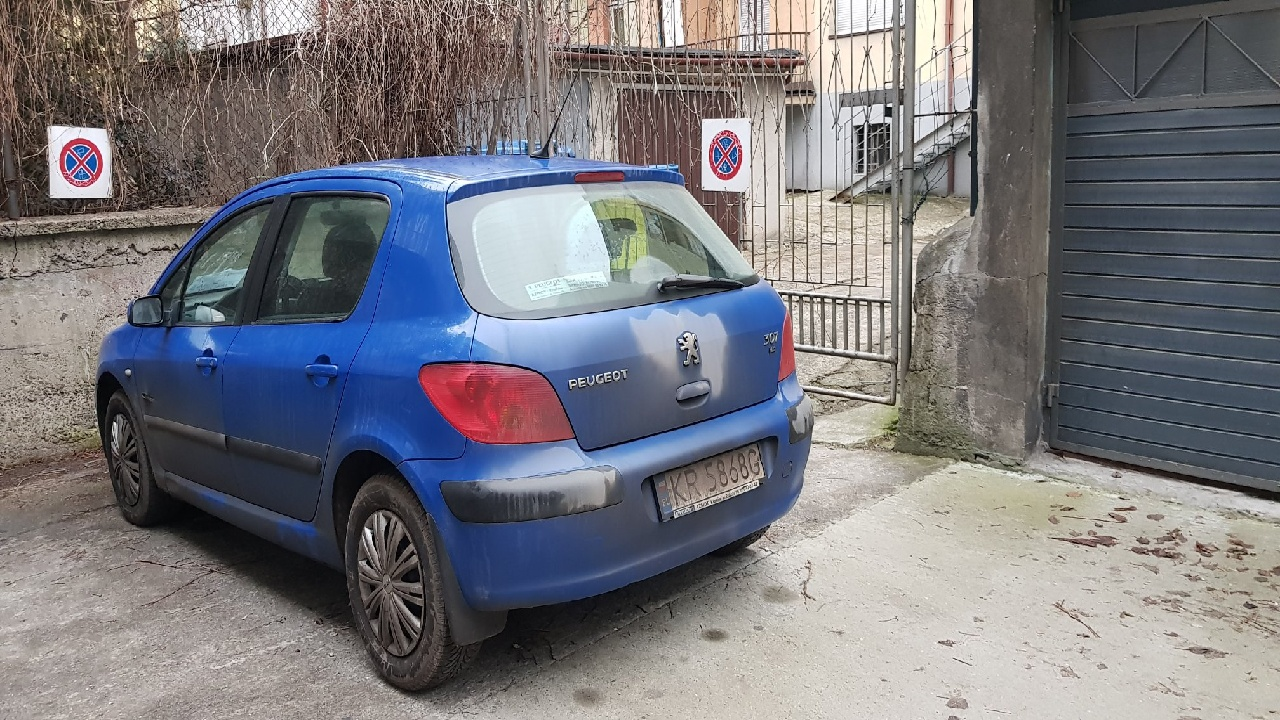B36: (60, 139, 103, 187), (709, 130, 743, 180)
